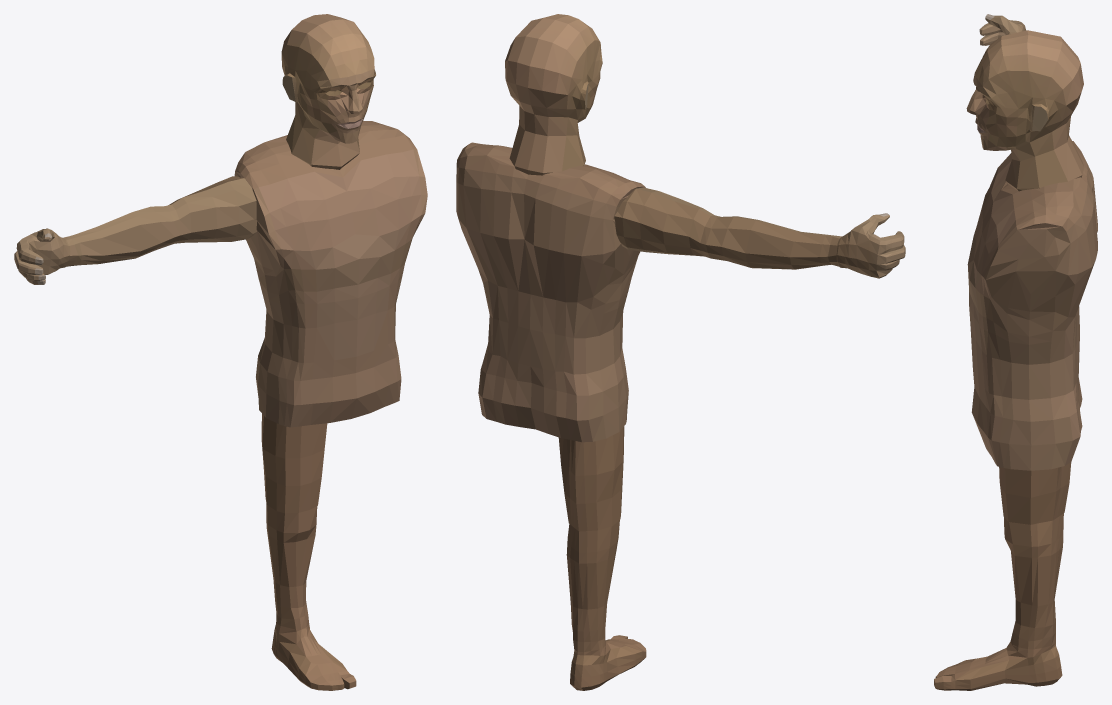
File: baseSkinToneLight.glb
3 renders of one model, left to right at view 1: azimuth 30°, elevation 25°; view 2: azimuth 150°, elevation 25°; view 3: azimuth 270°, elevation 25°, orthographic. The views are drawn at different scales.
Parts seen in each view (by area): view 1: nakedTorsoSkinToneLight, nakedFaceSkinToneLight, nakedUpperLegSkinToneLight, nakedUpperArmSkinToneLight, nakedLowerLegSkinToneLight, nakedLowerArmSkinToneLight, nakedFootSkinToneLight, nakedHandArmSkinToneLight; view 2: nakedTorsoSkinToneLight, nakedFaceSkinToneLight, nakedLowerArmSkinToneLight, nakedUpperLegSkinToneLight, nakedUpperArmSkinToneLight, nakedLowerLegSkinToneLight, nakedHandArmSkinToneLight, nakedFootSkinToneLight; view 3: nakedTorsoSkinToneLight, nakedFaceSkinToneLight, nakedLowerLegSkinToneLight, nakedFootSkinToneLight, nakedUpperLegSkinToneLight, nakedHandArmSkinToneLight.
Part boxes in pixels (x1,y1,x2,y2): nakedTorsoSkinToneLight: [234, 120, 427, 427]; nakedFaceSkinToneLight: [281, 14, 375, 169]; nakedUpperLegSkinToneLight: [261, 414, 327, 513]; nakedUpperArmSkinToneLight: [165, 176, 256, 245]; nakedLowerLegSkinToneLight: [266, 504, 317, 629]; nakedLowerArmSkinToneLight: [62, 206, 174, 266]; nakedFootSkinToneLight: [271, 622, 356, 690]; nakedHandArmSkinToneLight: [14, 228, 70, 284]; nakedTorsoSkinToneLight: [456, 142, 645, 442]; nakedFaceSkinToneLight: [505, 14, 602, 175]; nakedLowerArmSkinToneLight: [706, 216, 841, 269]; nakedUpperLegSkinToneLight: [558, 426, 624, 531]; nakedUpperArmSkinToneLight: [614, 187, 720, 258]; nakedLowerLegSkinToneLight: [566, 520, 619, 652]; nakedHandArmSkinToneLight: [836, 213, 905, 278]; nakedFootSkinToneLight: [570, 635, 646, 690]; nakedTorsoSkinToneLight: [967, 141, 1097, 470]; nakedFaceSkinToneLight: [966, 30, 1084, 191]; nakedLowerLegSkinToneLight: [1004, 513, 1063, 649]; nakedFootSkinToneLight: [934, 641, 1062, 690]; nakedUpperLegSkinToneLight: [999, 462, 1071, 524]; nakedHandArmSkinToneLight: [979, 14, 1025, 52].
Size of the model in its own units: 1.31 by 1.94 by 0.4338.
